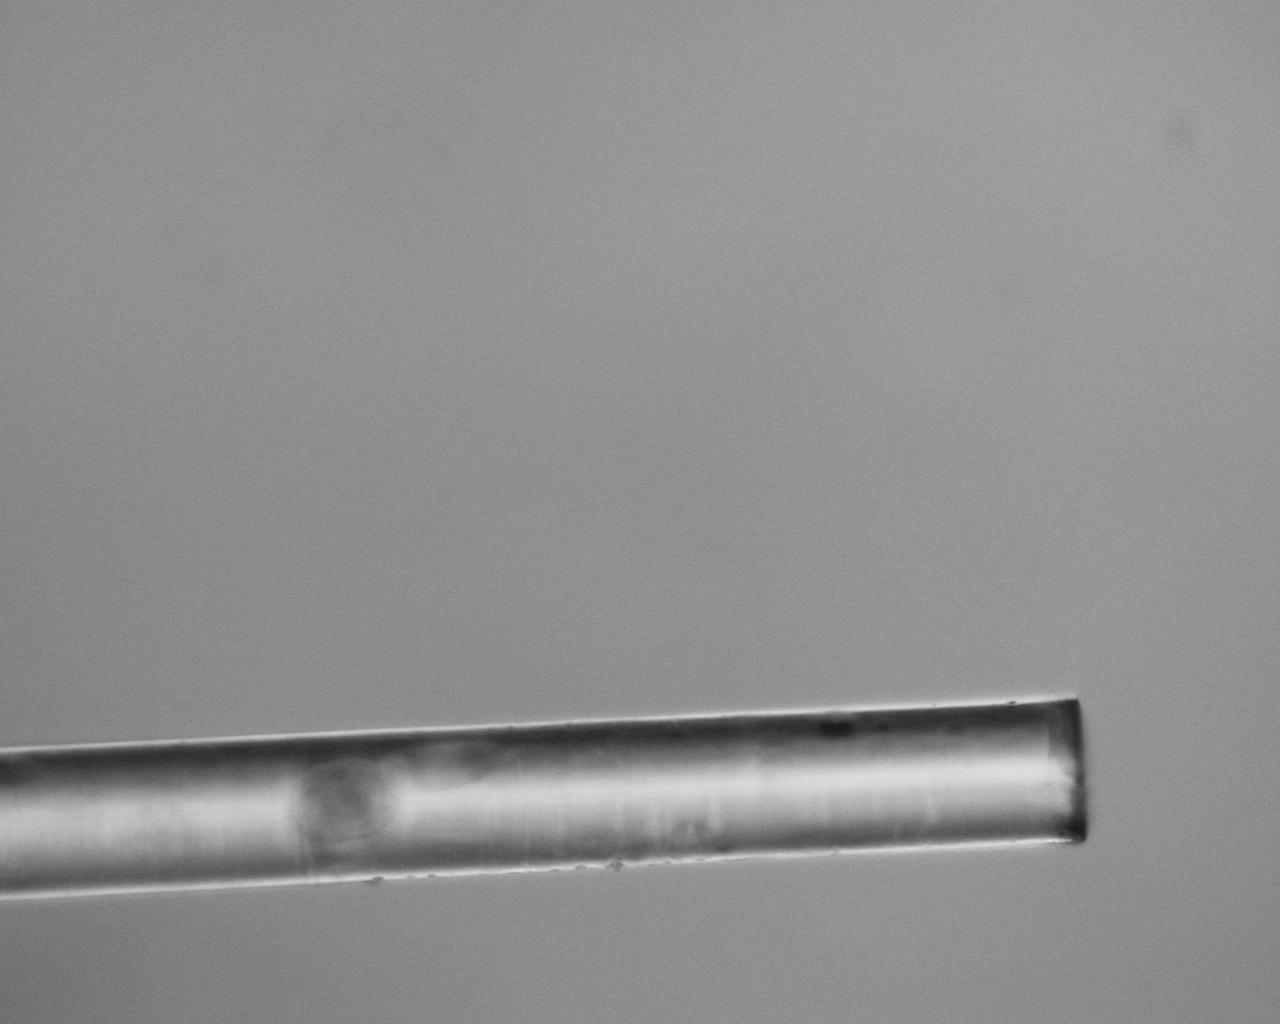fiber: (0, 694, 1090, 902)
